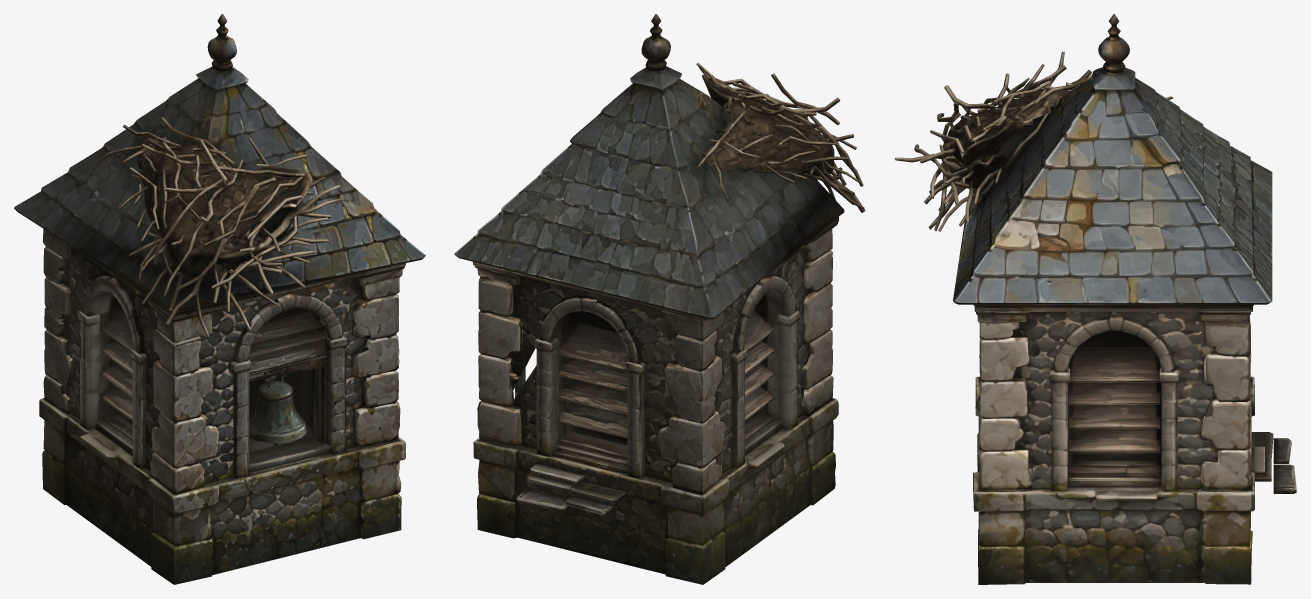
The model's file is act1-a17-2-drowned-bell-tower.glb.
3 views of the same model, side by side, from view 1: azimuth 30°, elevation 25°; view 2: azimuth 150°, elevation 25°; view 3: azimuth 270°, elevation 25° (orthographic). The views are drawn at different scales.
Visible parts, largest first — view 1: act1-a17-2-drowned-bell-tower; view 2: act1-a17-2-drowned-bell-tower; view 3: act1-a17-2-drowned-bell-tower.
Boxes of the visible parts, box(x1,y1,x2,y2) form: act1-a17-2-drowned-bell-tower: box(14, 14, 425, 584); act1-a17-2-drowned-bell-tower: box(454, 14, 865, 584); act1-a17-2-drowned-bell-tower: box(894, 14, 1296, 584).
Bounding box in the file's own units: 5.74 × 10 × 7.1.
Materials: 1 (1 with a texture image).
